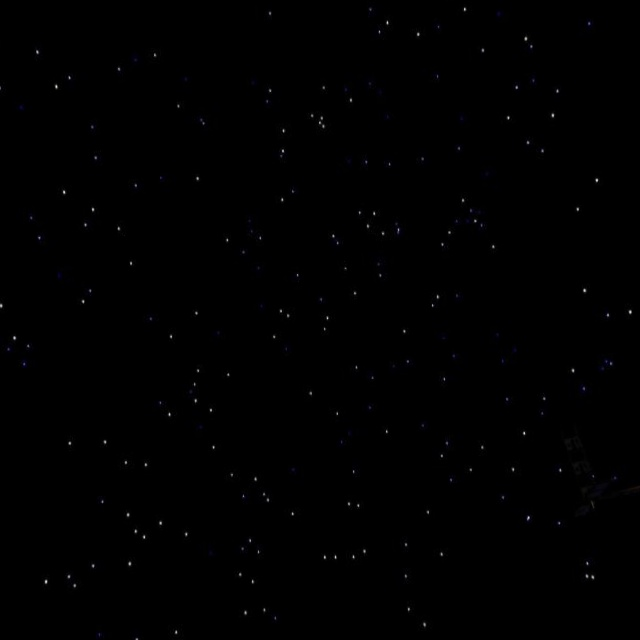medium_debris: (503, 367, 640, 557)
